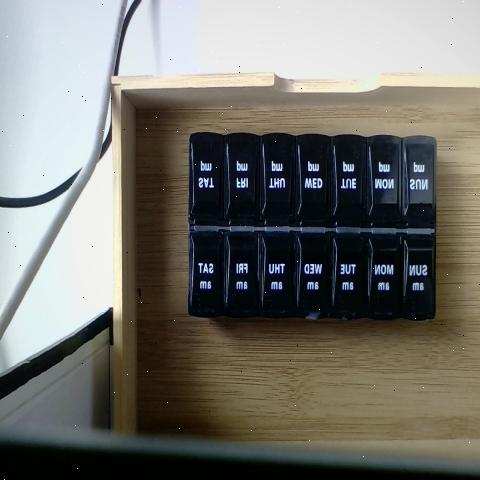FRI-am: (226, 232, 259, 320)
FRI-pm: (225, 133, 260, 224)
MON-am: (368, 231, 402, 317)
MON-pm: (368, 135, 400, 225)
SAT-am: (188, 231, 227, 318)
SAT-pm: (189, 132, 224, 222)
SUN-am: (403, 231, 435, 317)
SUN-pm: (402, 139, 436, 229)
THU-am: (261, 225, 297, 316)
THU-pm: (261, 136, 295, 226)
TUE-am: (332, 232, 366, 320)
TUE-pm: (332, 134, 366, 226)
WED-am: (297, 226, 330, 322)
WED-pm: (298, 135, 330, 224)
